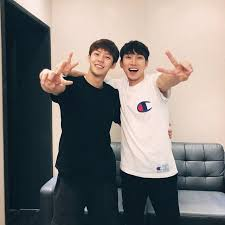people: (38, 40, 119, 222), (119, 41, 195, 217)
